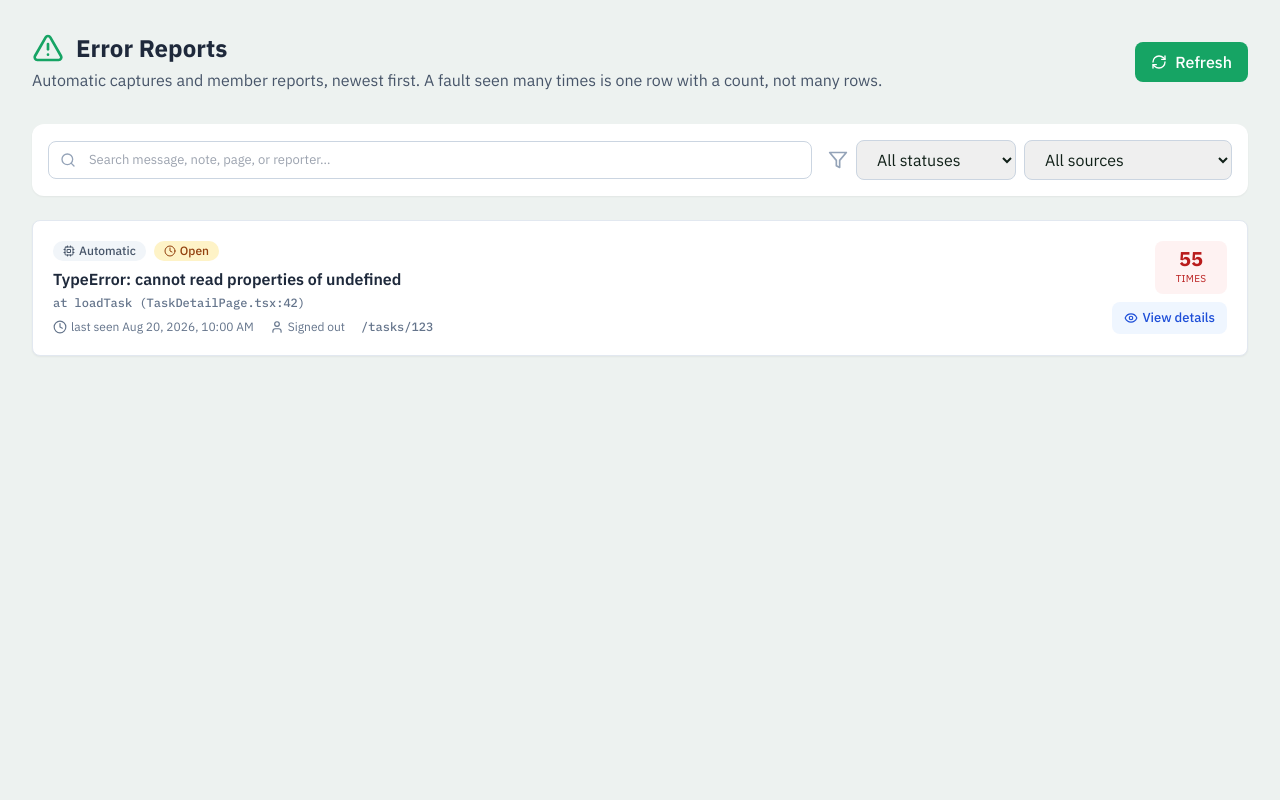
Test: ErrorReportsPage › shows the stack trace for a caught error, and no reporter-note section
Click the button "View details" at (1170, 318), box [1112,302,1227,334]
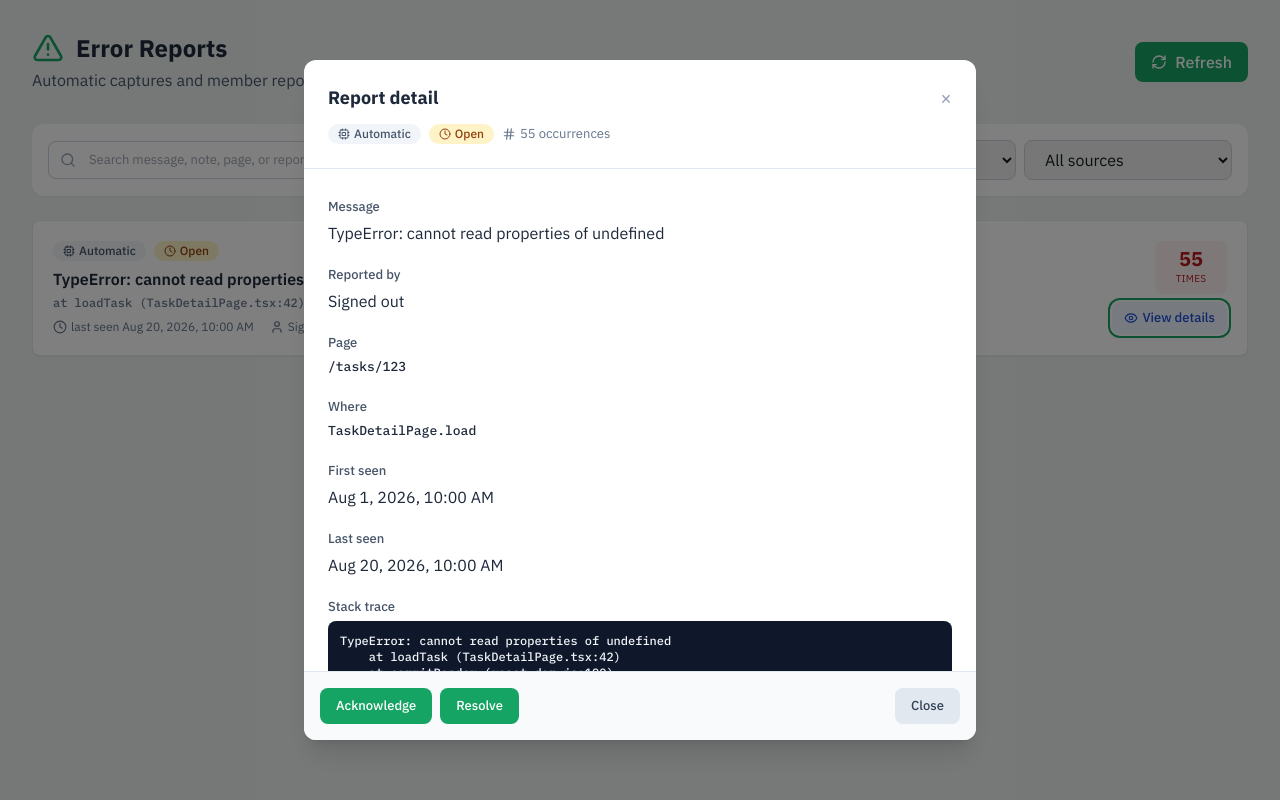
Expected: the text "Signed out" is shown, [328,291,404,311]
